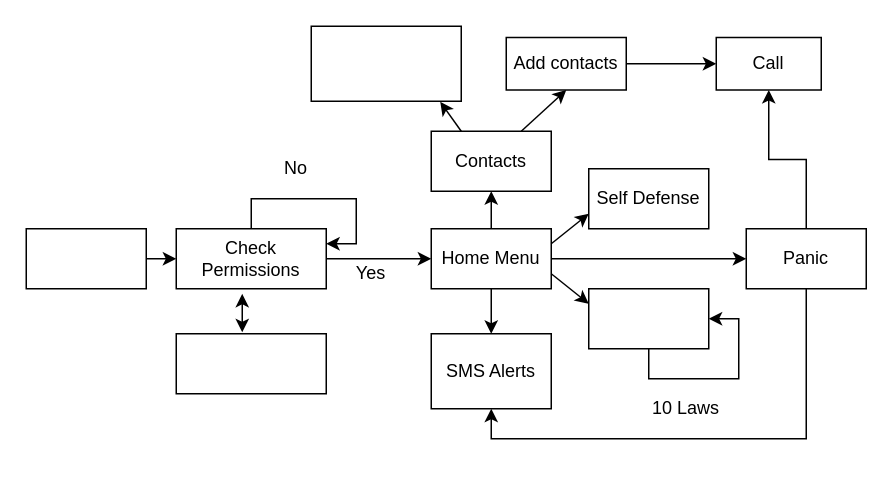
Some shapes in this 893 by 477 pixel diagram are drawn without their labels. The centre of each missing label's shape, as x and y in pixels:
Get current locaton: the point at 250,363
Laws: the point at 648,318
Near by Police/Hospitals: the point at 385,63
Start: the point at 85,258
